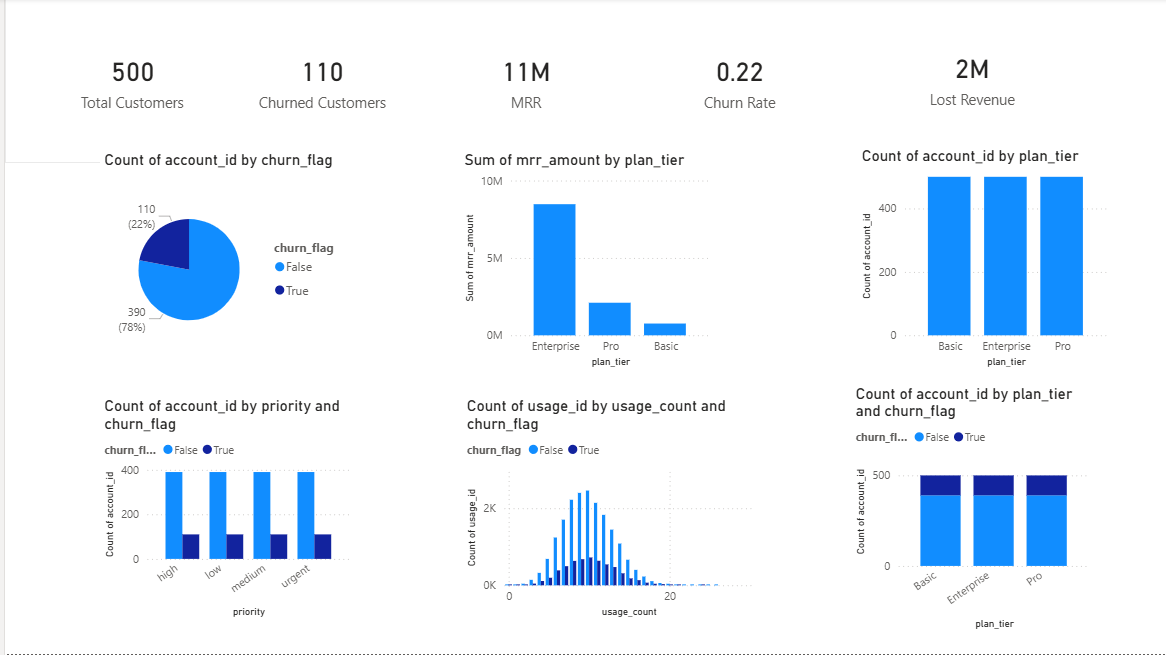

The page's visual inventory and layout, read from the dashboard file:
{"tool":"powerbi","page":{"name":"Page 1","canvas":[1280,720],"ordinal":0},"visuals":[{"type":"card","fields":{"Values":["ravenstack_accounts.Total Customers"]},"box":[0,0,279.9,181.1],"z":0},{"type":"card","fields":{"Values":["ravenstack_accounts.Churned Customers"]},"box":[208.6,0,279.9,181.1],"z":1},{"type":"card","fields":{"Values":["ravenstack_accounts.Churn Rate"]},"box":[666.9,0,279.9,181.1],"z":2},{"type":"card","fields":{"Values":["ravenstack_accounts.MRR"]},"box":[432.2,37,279.9,107],"z":3},{"type":"card","fields":{"Values":["ravenstack_accounts.Lost Revenue"]},"box":[922.1,16.5,279.9,140],"z":4},{"type":"pieChart","fields":{"Category":["ravenstack_accounts.churn_flag"],"Y":["CountNonNull(ravenstack_accounts.account_id)"]},"box":[104.3,167.4,279.9,242.9],"z":5},{"type":"clusteredColumnChart","fields":{"Category":["ravenstack_subscriptions.plan_tier"],"Y":["Sum(ravenstack_subscriptions.mrr_amount)"]},"box":[499.5,167.4,279.9,242.9],"z":6},{"type":"columnChart","fields":{"Category":["ravenstack_subscriptions.plan_tier"],"Y":["CountNonNull(ravenstack_accounts.account_id)"]},"box":[935.9,163.3,279.9,247],"z":7},{"type":"columnChart","fields":{"Category":["ravenstack_subscriptions.plan_tier"],"Y":["CountNonNull(ravenstack_accounts.account_id)"],"Series":["ravenstack_accounts.churn_flag"]},"box":[929,424,267.6,274.4],"z":8},{"type":"clusteredColumnChart","fields":{"Category":["ravenstack_support_tickets.priority"],"Y":["CountNonNull(ravenstack_accounts.account_id)"],"Series":["ravenstack_accounts.churn_flag"]},"box":[104.3,437.7,279.9,247],"z":9},{"type":"clusteredColumnChart","fields":{"Category":["ravenstack_feature_usage.usage_count"],"Y":["CountNonNull(ravenstack_feature_usage.usage_id)"],"Series":["ravenstack_accounts.churn_flag"]},"box":[502.2,437.7,328,247],"z":10}]}

Visuals, with their boxes in screenshot pixels (x1, y1, x2, y2), scaled from the page's 1280x720 canvas onto the 1166x655 screenshot:
card - ravenstack_accounts.Total Customers: 0:0:255:165
card - ravenstack_accounts.Churned Customers: 190:0:445:165
card - ravenstack_accounts.Churn Rate: 608:0:862:165
card - ravenstack_accounts.MRR: 394:34:649:131
card - ravenstack_accounts.Lost Revenue: 840:15:1095:142
pieChart - ravenstack_accounts.churn_flag x CountNonNull(ravenstack_accounts.account_id): 95:152:350:373
clusteredColumnChart - ravenstack_subscriptions.plan_tier x Sum(ravenstack_subscriptions.mrr_amount): 455:152:710:373
columnChart - ravenstack_subscriptions.plan_tier x CountNonNull(ravenstack_accounts.account_id): 853:149:1108:373
columnChart - ravenstack_subscriptions.plan_tier x CountNonNull(ravenstack_accounts.account_id): 846:386:1090:635
clusteredColumnChart - ravenstack_support_tickets.priority x CountNonNull(ravenstack_accounts.account_id): 95:398:350:623
clusteredColumnChart - ravenstack_feature_usage.usage_count x CountNonNull(ravenstack_feature_usage.usage_id): 457:398:756:623
